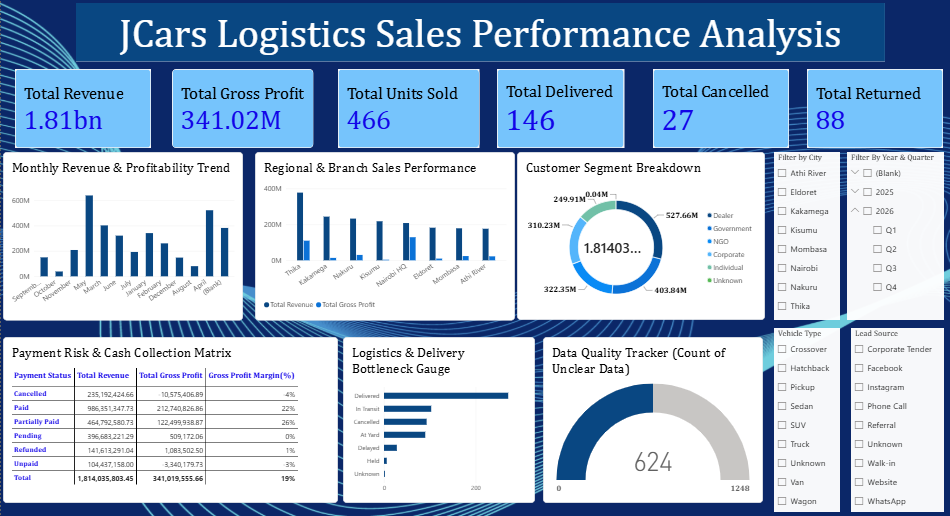

This screenshot's page, from the dashboard's own definition file:
{"tool":"powerbi","page":{"name":"Dashboard","canvas":[1920,1080],"ordinal":0},"visuals":[{"type":"shape","box":[149,21.6,1617.8,116.6],"z":0},{"type":"cardVisual","fields":{"Data":["Jcars_Cleaned_data.Total Gross Profit"]},"box":[342.4,153.7,283,158],"z":0,"group":"g1"},{"type":"group","id":"g1","title":"Group 1","box":[28.5,153.7,1857.1,158],"z":1000},{"type":"cardVisual","fields":{"Data":["Sum(Jcars_Cleaned_data.Units Sold)"]},"box":[673.9,153.7,283,158],"z":1000,"group":"g1"},{"type":"cardVisual","fields":{"Data":["Jcars_Cleaned_data.Total Revenue"]},"box":[28.5,153.7,272.2,158],"z":2000,"group":"g1"},{"type":"lineStackedColumnComboChart","title":"Monthly Revenue & Profitability Trend","fields":{"Y":["Sum(Fact_Sales.Revenue)"],"Category":["Dim_Date.Month"]},"box":[4,320,480,336.7],"z":2000},{"type":"cardVisual","fields":{"Data":["Jcars_Cleaned_data.Total Delivered Volume"]},"box":[992.2,153.7,254.6,158],"z":3000,"group":"g1"},{"type":"clusteredColumnChart","title":"Regional & Branch Sales Performance","fields":{"Category":["Jcars_Cleaned_data.Branch"],"Y":["Jcars_Cleaned_data.Total Revenue","Jcars_Cleaned_data.Total Gross Profit"]},"box":[508,320,520,336.7],"z":3000},{"type":"cardVisual","fields":{"Data":["Jcars_Cleaned_data.Total Cancelled Volume"]},"box":[1303.9,153.7,272,158],"z":4000,"group":"g1"},{"type":"slicer","fields":{"Values":["Dim_Date.Year","Dim_Date.Quarter"]},"box":[1692,320,194,336],"z":4000,"group":"g2"},{"type":"cardVisual","fields":{"Data":["Jcars_Cleaned_data.Total Returned Volume"]},"box":[1613.4,153.7,272,158],"z":5000,"group":"g1"},{"type":"slicer","fields":{"Values":["Jcars_Cleaned_data.City"]},"box":[1546,320,132,336],"z":5000,"group":"g2"},{"type":"donutChart","title":"Customer Segment Breakdown","fields":{"Y":["Jcars_Cleaned_data.Total Revenue"],"Category":["Jcars_Cleaned_data.Customer Type"]},"box":[1032,320,496,336],"z":6000},{"type":"pivotTable","title":"Payment Risk & Cash Collection Matrix","fields":{"Rows":["Fact_Sales.Payment Status"],"Values":["Jcars_Cleaned_data.Total Revenue","Jcars_Cleaned_data.Total Gross Profit","Jcars_Cleaned_data.Gross Profit Margin(%)"]},"box":[4,690,670,332],"z":7000},{"type":"clusteredBarChart","title":"Logistics & Delivery Bottleneck Gauge","fields":{"Category":["Fact_Sales.Delivery Status"],"Y":["Sum(Jcars_Cleaned_data.Units Sold)"]},"box":[684,690,384,332],"z":8000},{"type":"slicer","fields":{"Values":["Dim_Vehicle.Vehicle Type"]},"box":[1546,672,132,368],"z":9000,"group":"g2"},{"type":"slicer","fields":{"Values":["Dim_Sales Channel.Lead Source"]},"box":[1700,672,186,368],"z":10000,"group":"g2"},{"type":"gauge","title":"Data Quality Tracker (Count of Unclear Data)","fields":{"Y":["Fact_Sales.Data Quality"]},"box":[1084,690,440,332],"z":10001},{"type":"group","id":"g2","title":"Group 2","box":[1546,320,340,720],"z":10002}]}

Visuals, with their boxes in screenshot pixels (x1, y1, x2, y2):
shape: bbox=(88, 6, 880, 63)
cardVisual - Jcars_Cleaned_data.Total Gross Profit: bbox=(182, 70, 321, 148)
"Group 1" group: bbox=(29, 70, 938, 148)
cardVisual - Sum(Jcars_Cleaned_data.Units Sold): bbox=(345, 70, 483, 148)
cardVisual - Jcars_Cleaned_data.Total Revenue: bbox=(29, 70, 162, 148)
"Monthly Revenue & Profitability Trend" lineStackedColumnComboChart: bbox=(17, 152, 252, 316)
cardVisual - Jcars_Cleaned_data.Total Delivered Volume: bbox=(501, 70, 625, 148)
"Regional & Branch Sales Performance" clusteredColumnChart: bbox=(264, 152, 518, 316)
cardVisual - Jcars_Cleaned_data.Total Cancelled Volume: bbox=(653, 70, 786, 148)
slicer - Dim_Date.Year x Dim_Date.Quarter: bbox=(843, 152, 938, 316)
cardVisual - Jcars_Cleaned_data.Total Returned Volume: bbox=(805, 70, 938, 148)
slicer - Jcars_Cleaned_data.City: bbox=(772, 152, 836, 316)
"Customer Segment Breakdown" donutChart: bbox=(520, 152, 763, 316)
"Payment Risk & Cash Collection Matrix" pivotTable: bbox=(17, 333, 345, 495)
"Logistics & Delivery Bottleneck Gauge" clusteredBarChart: bbox=(350, 333, 538, 495)
slicer - Dim_Vehicle.Vehicle Type: bbox=(772, 324, 836, 504)
slicer - Dim_Sales Channel.Lead Source: bbox=(847, 324, 938, 504)
"Data Quality Tracker (Count of Unclear Data)" gauge: bbox=(545, 333, 761, 495)
"Group 2" group: bbox=(772, 152, 938, 504)
